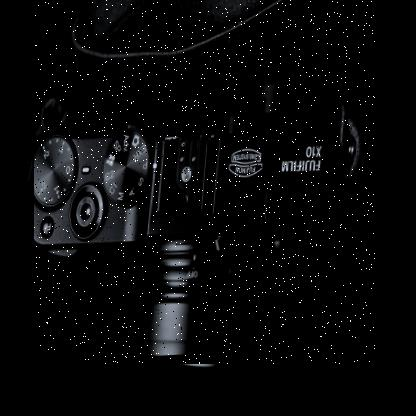Camera: (35, 1, 377, 366)
